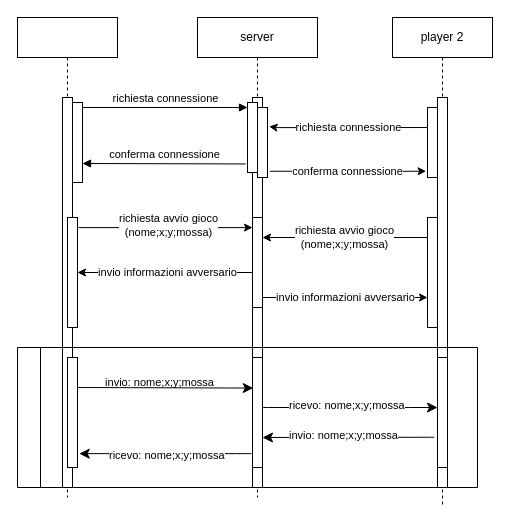
This 510x525 diagram has some shape labels left out. The shapes that lost their labels are listed below. From the top down, each one's box as (x1, y1, x2, y2) in pixels, then its label:
(16, 16, 118, 498): player 1
(16, 346, 478, 488): loop
